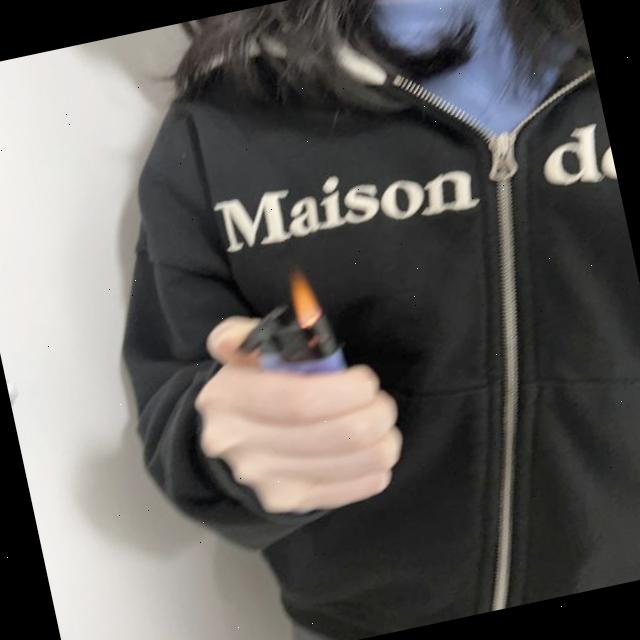fire: (284, 262, 324, 330)
